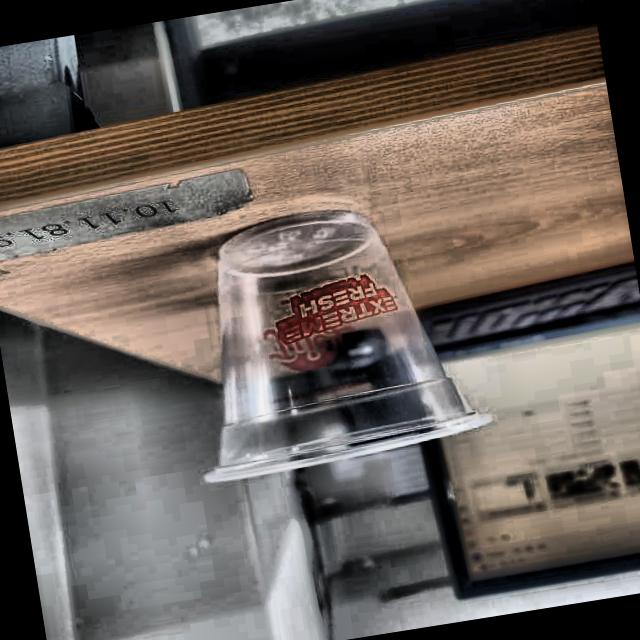plastic cup: (168, 193, 494, 486)
